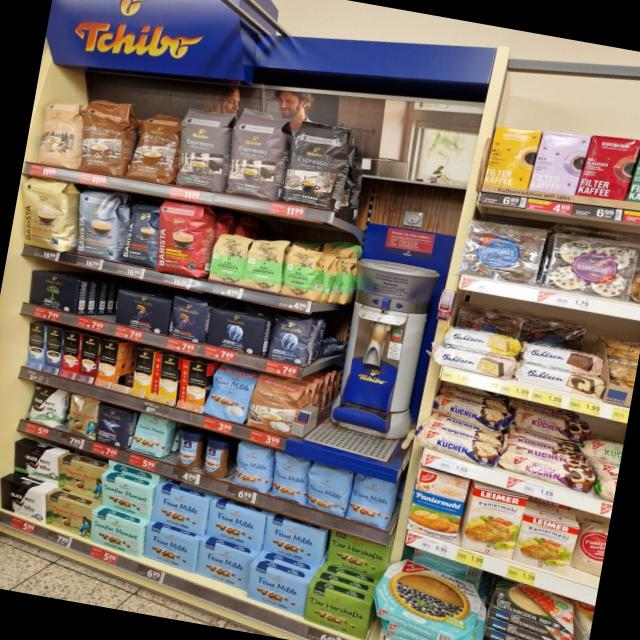AB Bohne: (267, 309, 319, 369)
AB Gemahlen: (202, 307, 272, 359)
Athiopien Bohne: (280, 242, 327, 302)
Athiopien Gemahlen: (242, 235, 288, 294), (207, 230, 251, 287)
BM Gemahlen: (24, 268, 84, 315)
BW Bohne: (26, 382, 68, 430)
BW Gemahlen: (0, 477, 52, 525), (9, 441, 63, 481)
Barista CB: (10, 176, 80, 254)
Barista CC: (68, 186, 132, 264)
Barista Espresso: (119, 202, 166, 270)
Barista Kolumbien: (149, 200, 216, 280)
C Fino Bohne: (92, 402, 136, 450)
CC Mild: (34, 96, 88, 172)
CC Vollmundig: (245, 370, 303, 440)
CC Vollmundig 36 Pads: (74, 95, 136, 178), (127, 105, 184, 186)
Colombia BB Bohne: (64, 393, 102, 442)
Colombia BB Gemahlen: (52, 452, 110, 502), (40, 488, 96, 538)
Empty Shelf: (80, 270, 121, 321)
Espresso Aromatisch: (222, 105, 294, 204), (172, 104, 238, 193)
Espresso Kraftig: (280, 118, 352, 212)
FM 36 Pads: (203, 361, 256, 426)
FM Bohne: (345, 471, 400, 532), (266, 448, 314, 506), (304, 464, 354, 518), (228, 440, 276, 495)
FM Gemahlen: (259, 513, 329, 568), (242, 562, 311, 616), (192, 539, 255, 591), (203, 500, 268, 550), (140, 522, 205, 572), (148, 484, 212, 534)
FM Instant: (199, 431, 233, 481), (170, 426, 207, 471)
Herzhatfe Mundig: (301, 583, 374, 639)
LG Bohne: (166, 294, 212, 346)
LG Gemahlen: (111, 288, 175, 336)
SM Bohne: (131, 411, 173, 459)
SM Gemahlen: (95, 472, 158, 522), (87, 508, 149, 557)
Simo CCMild: (148, 351, 180, 405)
Simo CCMild bigpack: (130, 348, 154, 398)
Simo CCVollmundig bigpack: (177, 359, 208, 413), (93, 339, 119, 389)
Simo Es Brazil: (58, 330, 80, 380)
Simo Es Caramel: (75, 334, 100, 384)
Simo Es Kraft: (41, 326, 63, 375)
Simo Es Vanilla: (25, 321, 45, 371)
